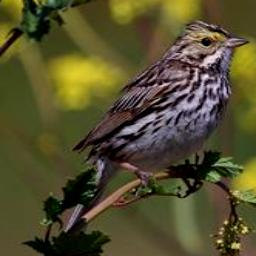Sparrow: (54, 15, 253, 234)
